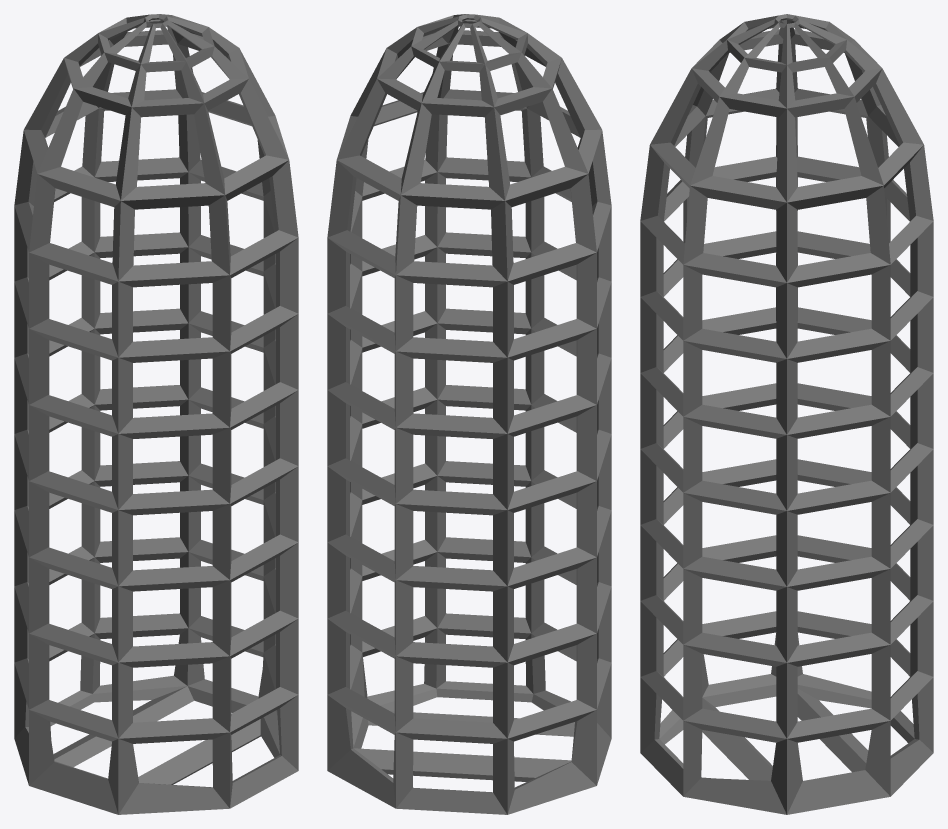
File: LPCP_Cage06.fbx
3 views of the same model, side by side, from view 1: azimuth 30°, elevation 25°; view 2: azimuth 150°, elevation 25°; view 3: azimuth 270°, elevation 25° (orthographic).
Parts seen in each view (by area): view 1: LPCP_Cage06; view 2: LPCP_Cage06; view 3: LPCP_Cage06.
Boxes of the visible parts, bbox=[...] form: LPCP_Cage06: bbox=[14, 14, 298, 814]; LPCP_Cage06: bbox=[327, 14, 611, 814]; LPCP_Cage06: bbox=[640, 14, 933, 814].
Size of the model in its own units: 2 by 5.52 by 2.
